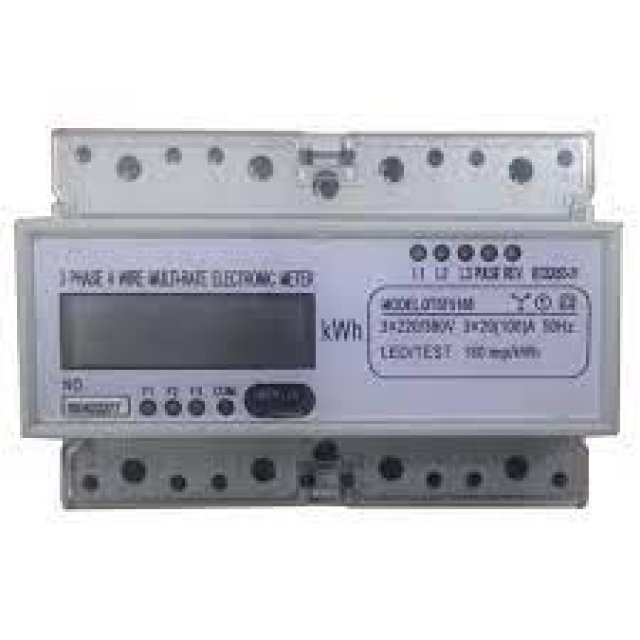box: (59, 291, 316, 370)
